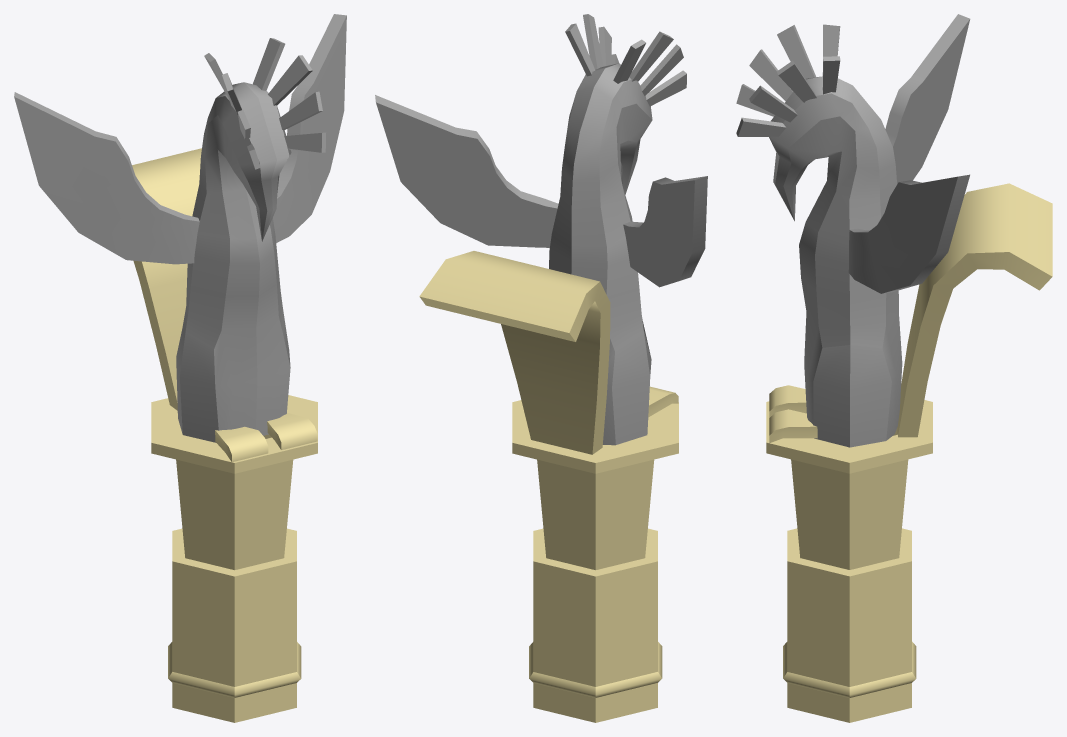
Rendered from totem_1.fbx.
3 renders of one model, left to right at view 1: azimuth 30°, elevation 25°; view 2: azimuth 150°, elevation 25°; view 3: azimuth 270°, elevation 25°, orthographic.
Visible parts, largest first — view 1: pCube23; view 2: pCube23; view 3: pCube23.
Boxes of the visible parts, x1,y1,x2,y2 form: pCube23: (14, 14, 346, 722); pCube23: (375, 14, 707, 722); pCube23: (736, 14, 1052, 722).
Bounding box in the file's own units: 1346 × 2517 × 1107.
Materials: 2 (1 with a texture image).
